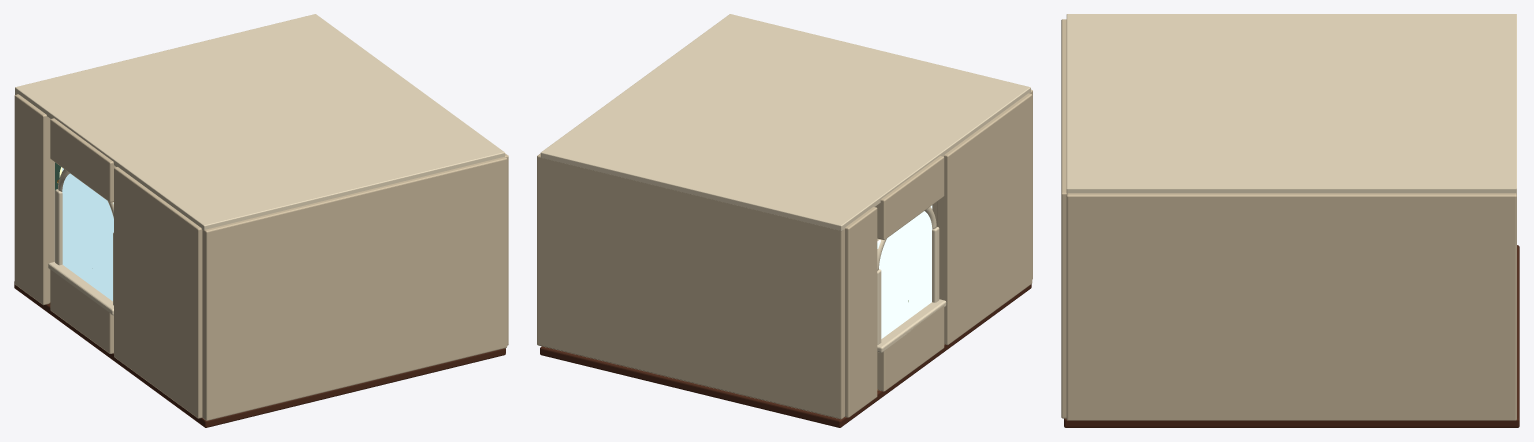
Rendered from bank-office.glb.
The picture shows the model from 3 angles, left to right: view 1: azimuth 30°, elevation 25°; view 2: azimuth 150°, elevation 25°; view 3: azimuth 270°, elevation 25°; orthographic projection. The views are drawn at different scales.
Visible parts, largest first — view 1: Office__Office_Limestone, Office__Office_Ivory, ArchedWindow__Office_Daylight, Office__Office_Walnut_Shadow, ArchedWindow__Office_Ivory; view 2: Office__Office_Limestone, Office__Office_Ivory, ArchedWindow__Office_Daylight, Office__Office_Walnut_Shadow, ArchedWindow__Office_Ivory; view 3: Office__Office_Limestone, Office__Office_Ivory, Office__Office_Walnut_Shadow.
Boxes of the visible parts, x1,y1,x2,y2 form: Office__Office_Limestone: (14, 93, 508, 420); Office__Office_Ivory: (15, 14, 504, 261); ArchedWindow__Office_Daylight: (62, 168, 113, 301); Office__Office_Walnut_Shadow: (14, 281, 505, 427); ArchedWindow__Office_Ivory: (48, 169, 113, 315); Office__Office_Limestone: (537, 89, 1032, 419); Office__Office_Ivory: (540, 14, 1030, 231); ArchedWindow__Office_Daylight: (877, 205, 932, 338); Office__Office_Walnut_Shadow: (540, 284, 1031, 427); ArchedWindow__Office_Ivory: (877, 206, 946, 352); Office__Office_Limestone: (1061, 19, 1516, 420); Office__Office_Ivory: (1066, 14, 1516, 193); Office__Office_Walnut_Shadow: (1064, 245, 1519, 427).
Size of the model in its own units: 8 by 5 by 8.65.
